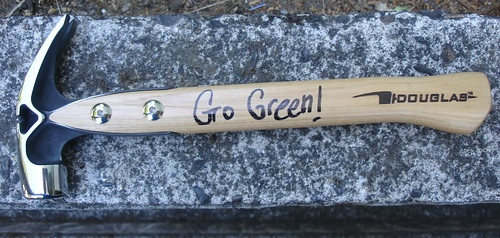hammer: (15, 11, 493, 197)
